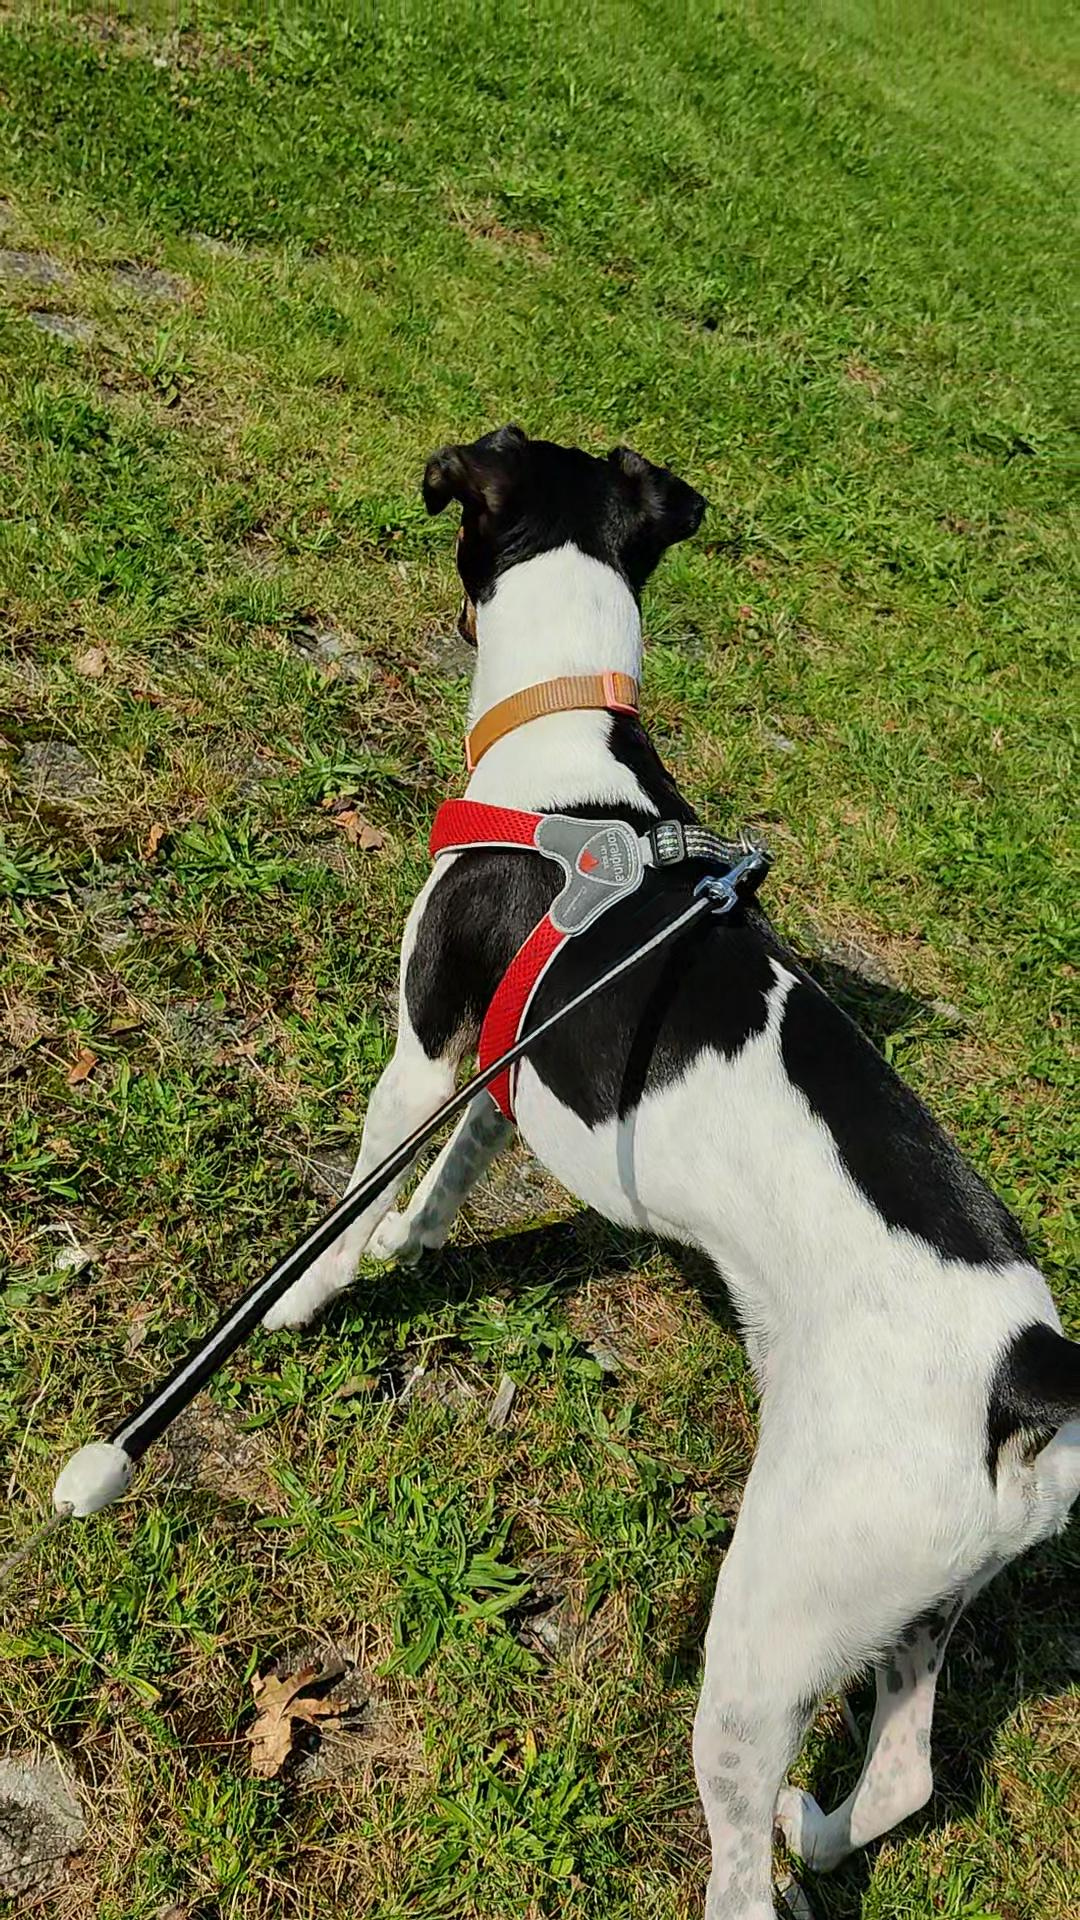Dog: (243, 382, 1079, 1917)
